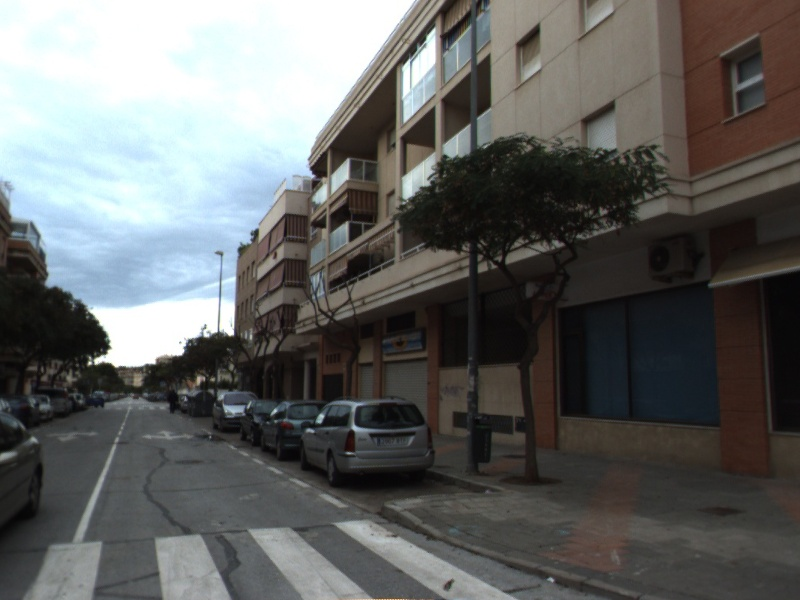STRAIGHT_LEFT_RIGHT: (140, 428, 197, 442)
